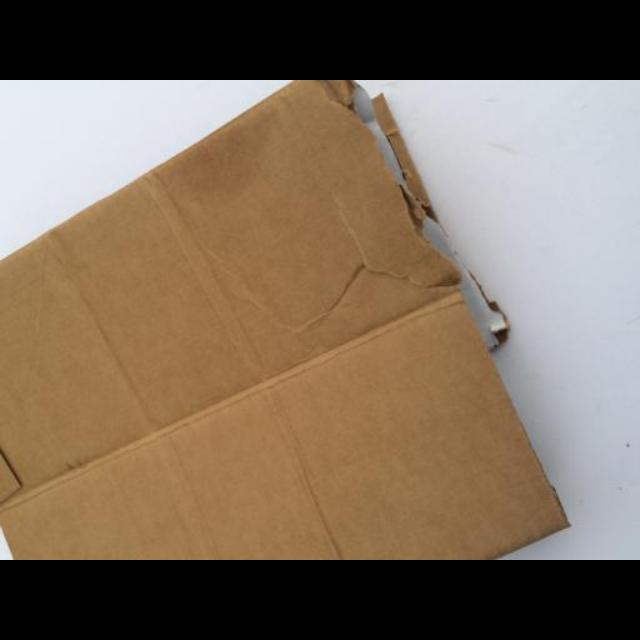papelão: (0, 82, 568, 560)
